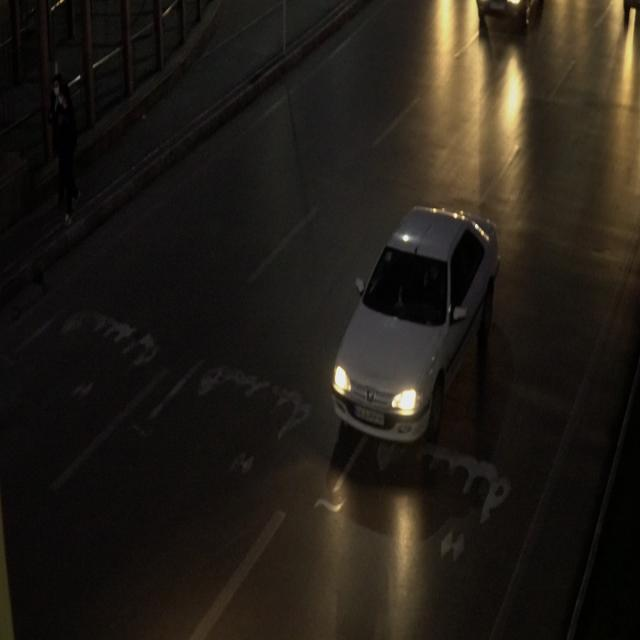car: (332, 205, 502, 439)
